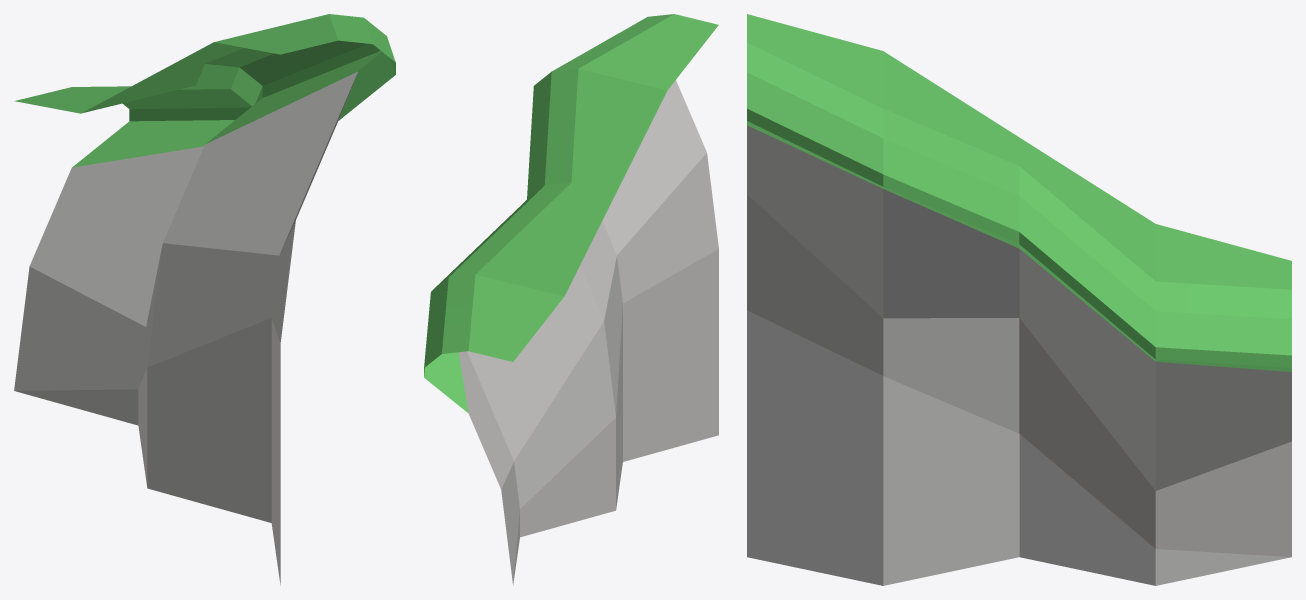
File: Cliff_Terrain_Hill_Sharp_Top.glb
3 views of the same model, side by side, from view 1: azimuth 30°, elevation 25°; view 2: azimuth 150°, elevation 25°; view 3: azimuth 270°, elevation 25° (orthographic). The views are drawn at different scales.
Visible parts, largest first — view 1: Cliff_Terrain_Hill_Sharp_Top; view 2: Cliff_Terrain_Hill_Sharp_Top; view 3: Cliff_Terrain_Hill_Sharp_Top.
Part boxes in pixels (left/top/right/bottom): Cliff_Terrain_Hill_Sharp_Top: left=14, top=14, right=395, bottom=585; Cliff_Terrain_Hill_Sharp_Top: left=424, top=14, right=718, bottom=585; Cliff_Terrain_Hill_Sharp_Top: left=747, top=14, right=1291, bottom=585.
Bounding box in the file's own units: 0.3712 × 1.09 × 0.99.
